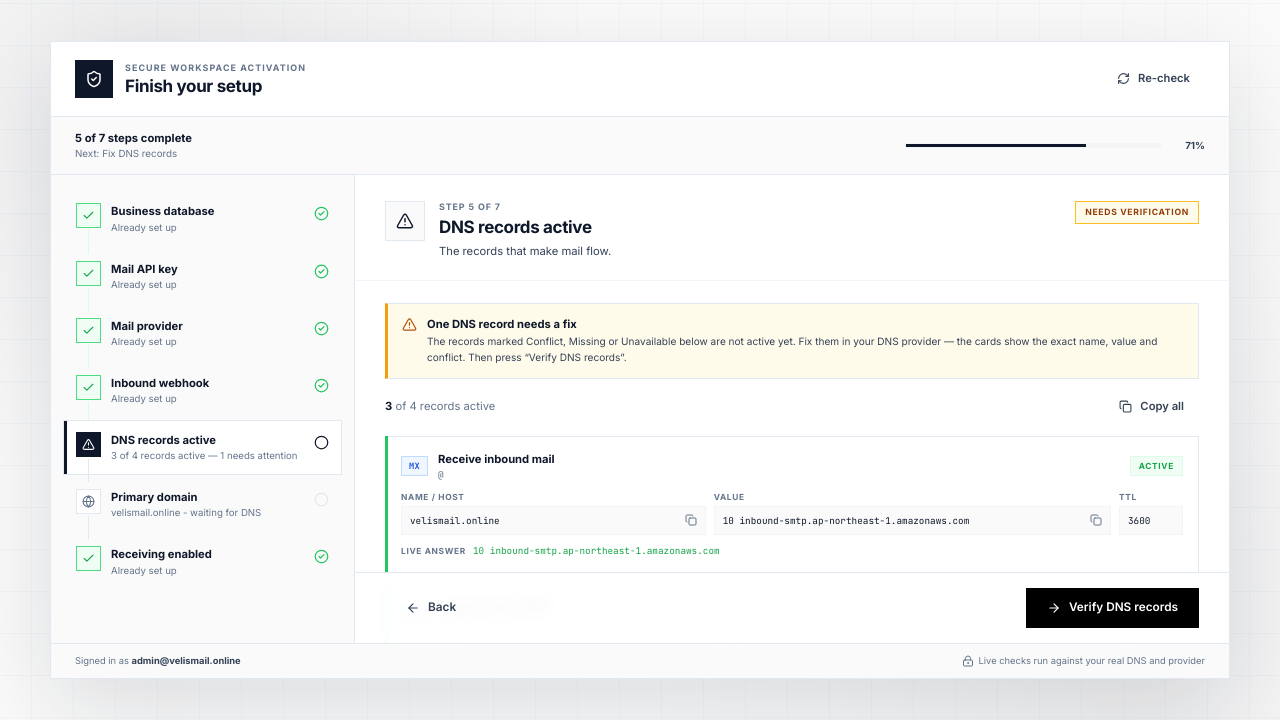
setup gate › points the domain step at the exact DNS fix instead of a dead verify button
This screenshot has width=1280, height=720.
expect the heading "DNS records active" is shown: met, box [439,217,592,237]
Step 1. Click the button "Primary domain velismail.online - waiting for DNS" → coordinates (154, 497), box [63,477,342,532]
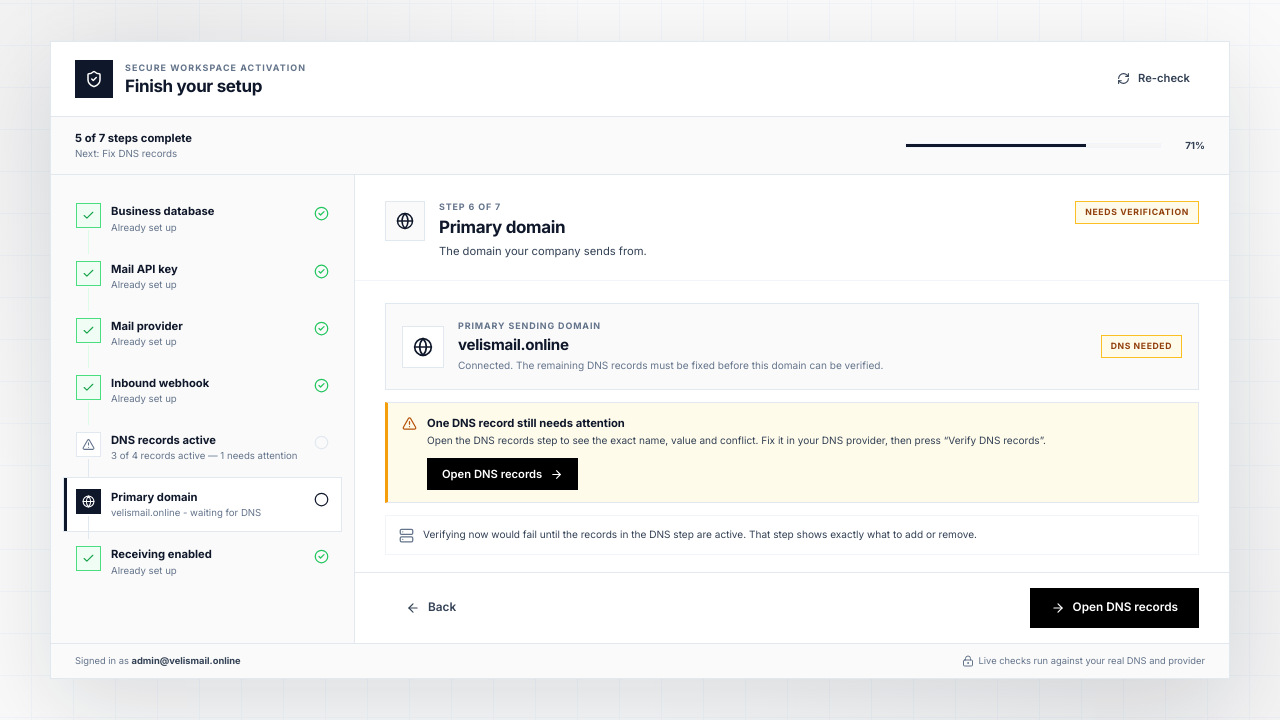
expect the heading "Primary domain" is shown: met, box [439,217,565,237]
expect the text "One DNS record still needs attention" is shown: met, box [427,416,625,430]
Note: Both the inline callout and the footer offer the same shortcut.
Step 2. Click the button "Open DNS records" below "One DNS record still needs attention" → coordinates (503, 474), box [427,458,578,490]
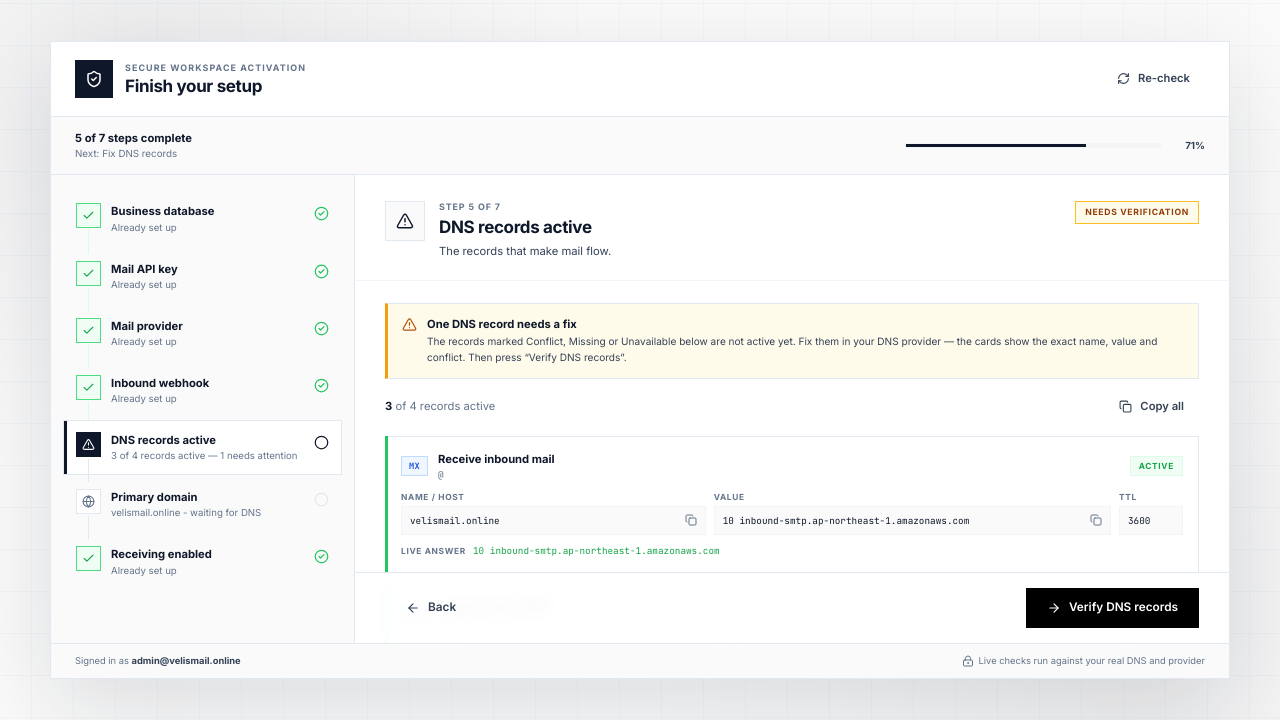
expect the heading "DNS records active" is shown: met, box [439,217,592,237]
